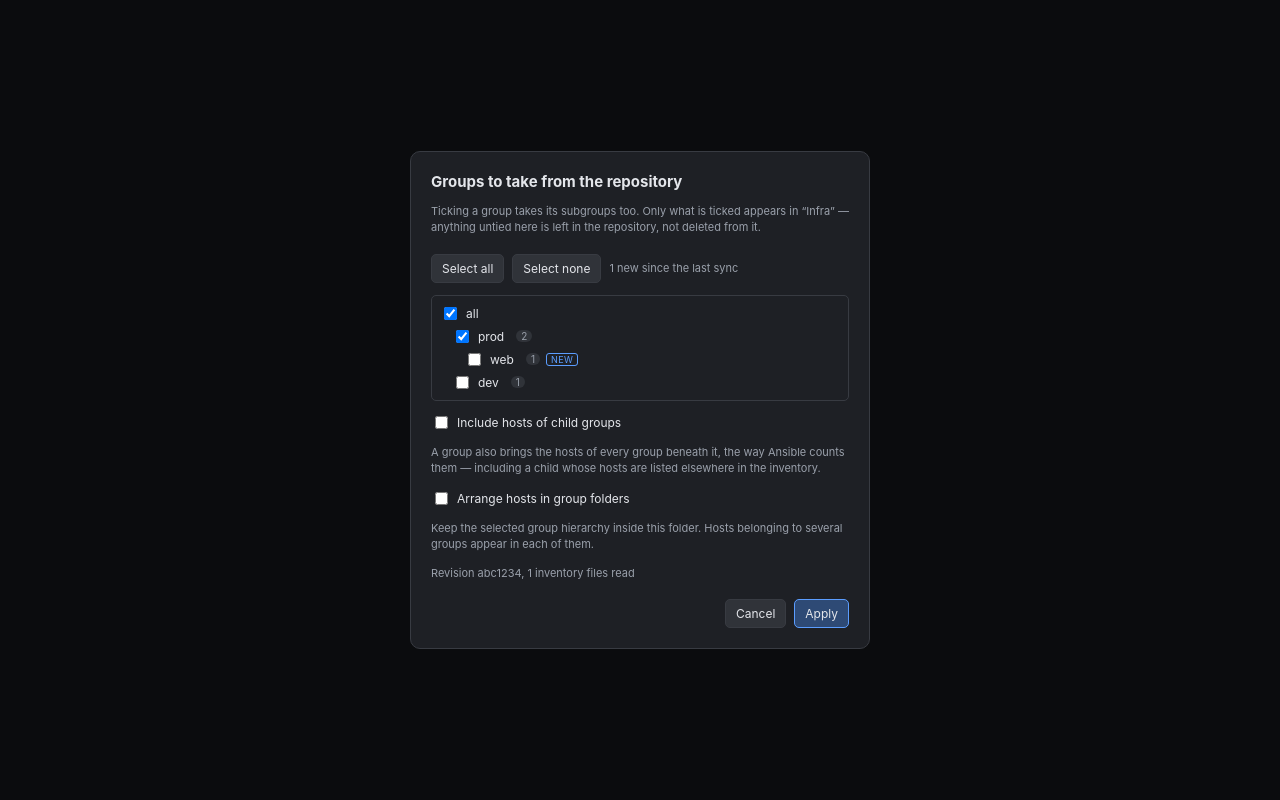
it: the sync dialog › says what Apply would take for the groups ticked now
Expected: the text "will disappear" is not shown
What coordinates should you click on to do the following:
click the button "Select none"
I would click on:
 (557, 268)
Its box is [512,254,601,283].
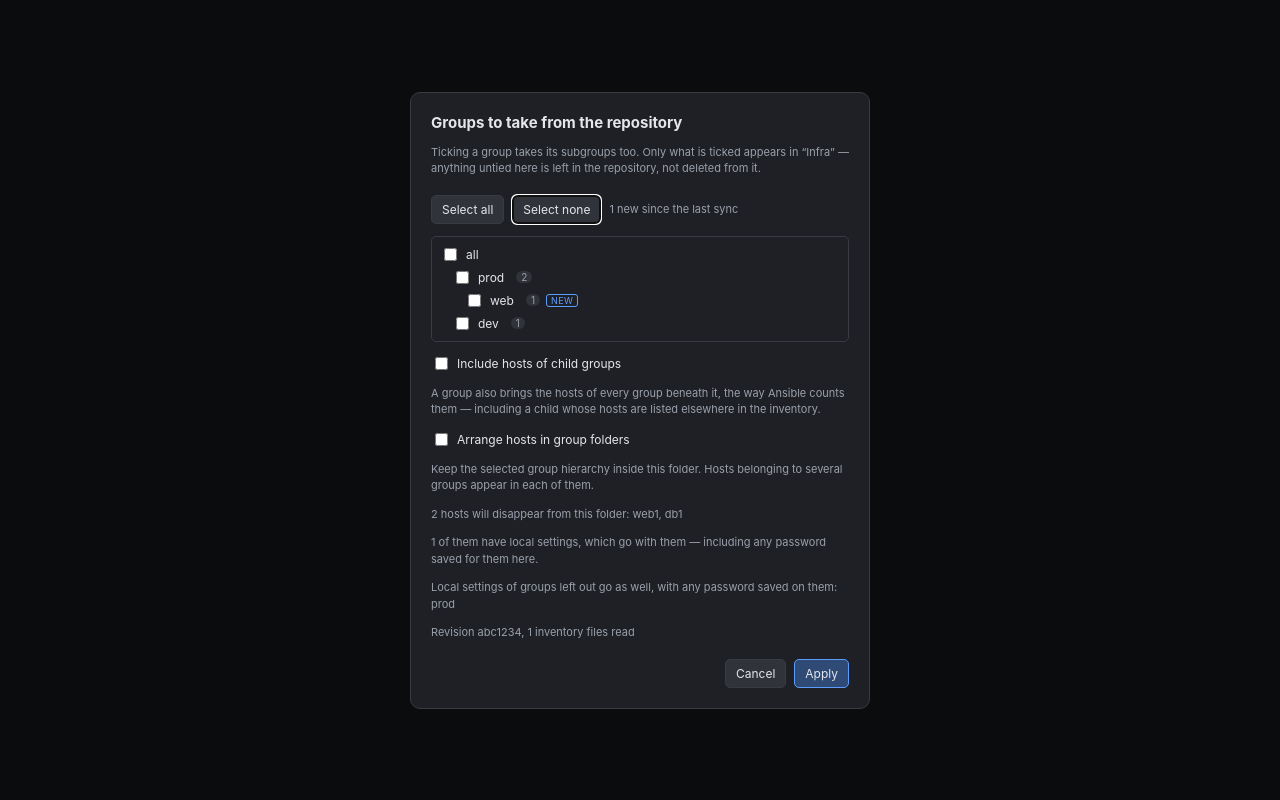
Expected: the button "Apply" is enabled, [794,658,849,688]
Now the text "2 hosts will disappear from this folder: web1, db1" is shown, box [431,506,682,520]
Now the text "1 of them have local settings" is shown, box [431,535,826,566]
